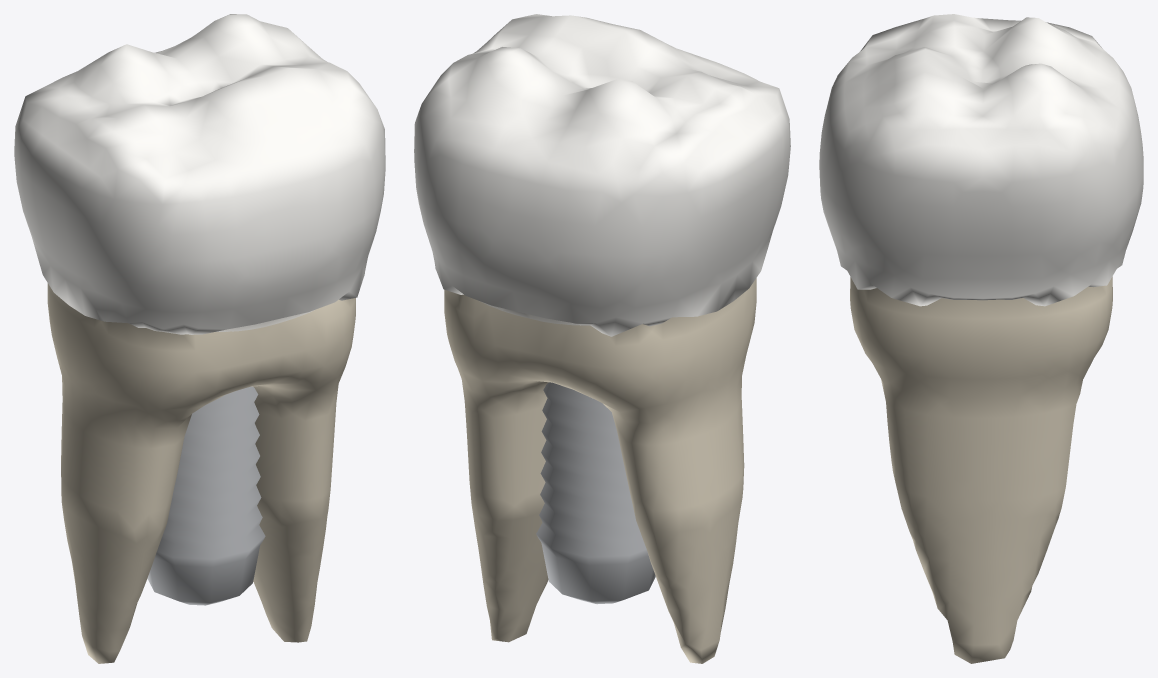
3 views of the same model, side by side, from view 1: azimuth 30°, elevation 25°; view 2: azimuth 150°, elevation 25°; view 3: azimuth 270°, elevation 25° (orthographic). The views are drawn at different scales.
Parts seen in each view (by area): view 1: crown, root, implant; view 2: crown, root, implant; view 3: crown, root.
Boxes of the visible parts, box(x1,y1,x2,y2) form: crown: box(14, 14, 385, 334); root: box(47, 283, 355, 663); implant: box(147, 386, 265, 605); crown: box(414, 14, 790, 336); root: box(444, 278, 756, 663); implant: box(536, 382, 655, 604); crown: box(819, 14, 1143, 306); root: box(850, 276, 1112, 663).
Size of the model in its own units: 11.68 by 22.11 by 11.18.
